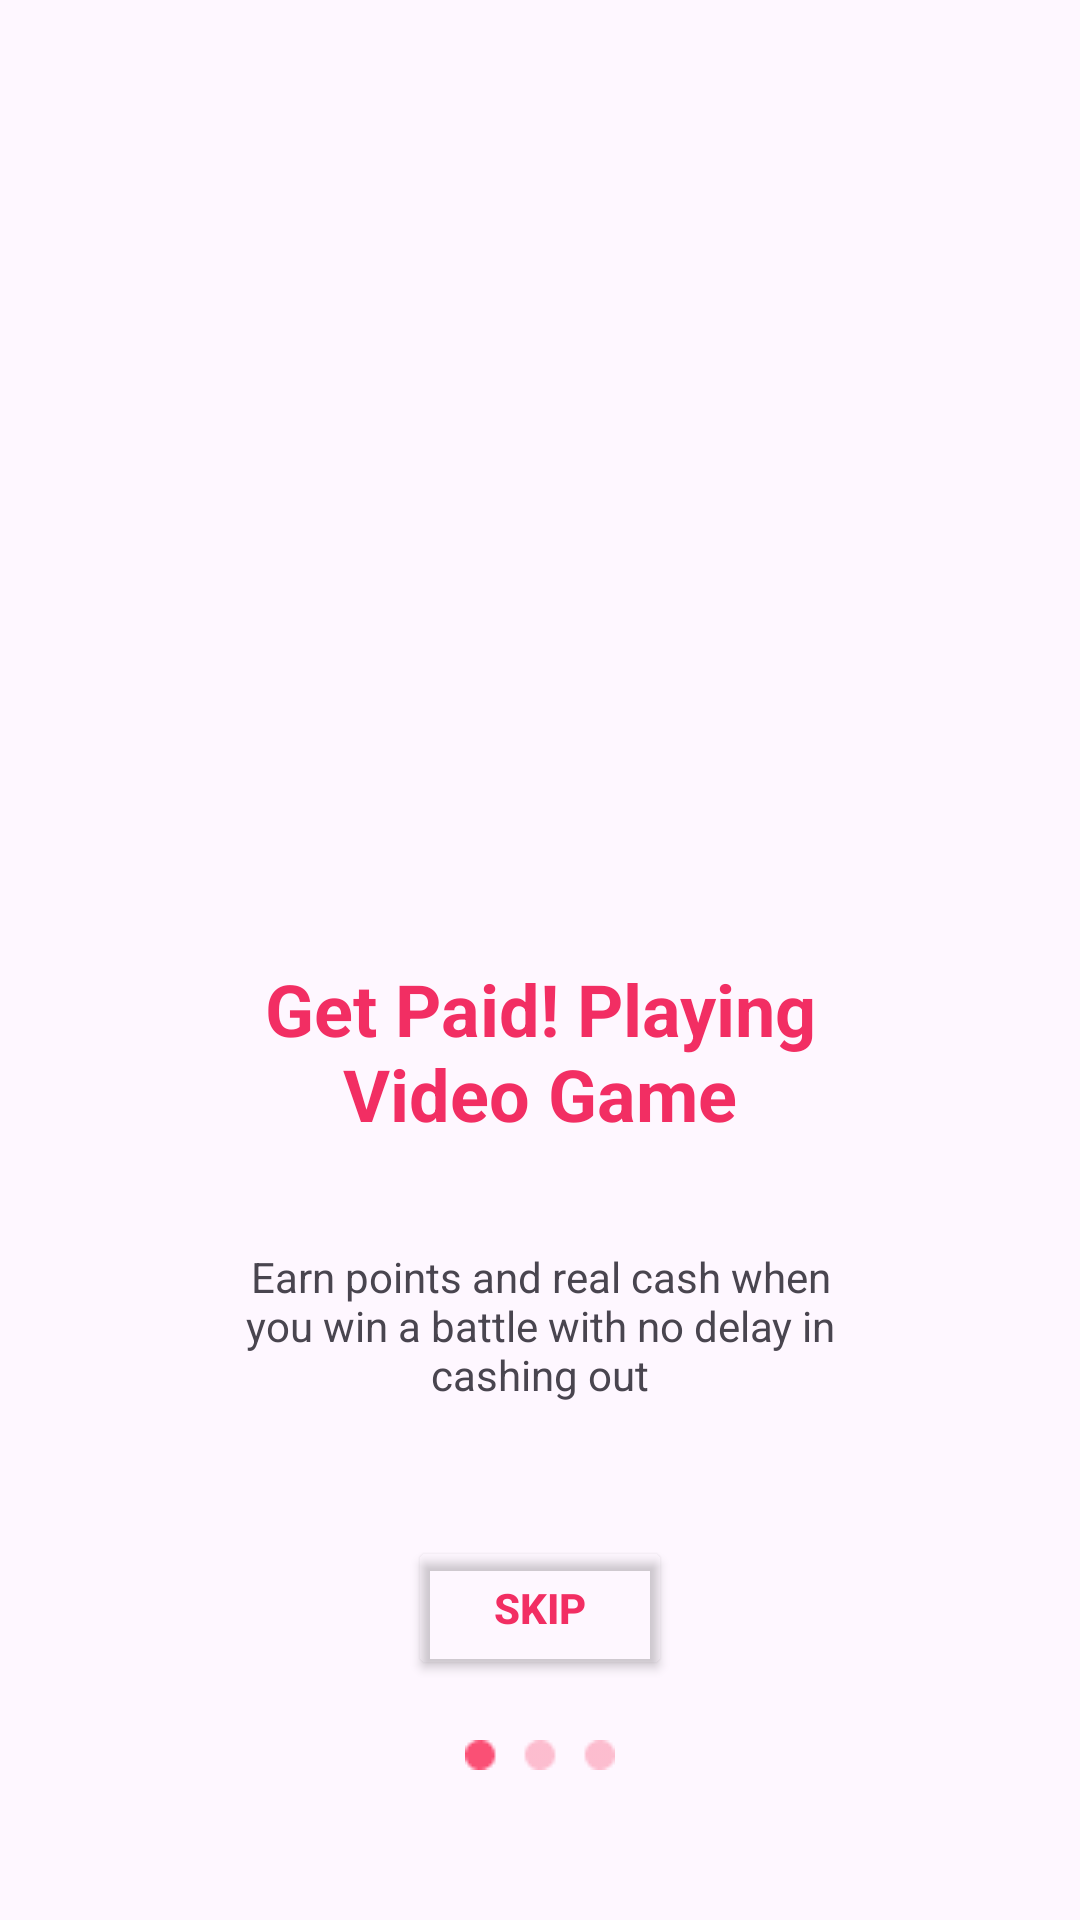

Icons on this 1080px x 1920px Android screen, each with the point to tap as (x,y):
slider dots: (540,1755)
